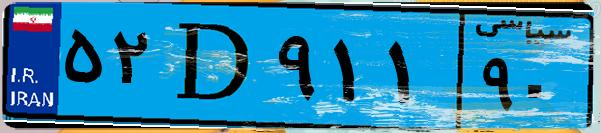0: (525, 38, 570, 115)
1: (385, 28, 445, 110), (330, 28, 385, 110)
2: (110, 28, 158, 98)
5: (57, 26, 110, 100)
9: (270, 28, 330, 110), (475, 38, 525, 113)
D: (158, 12, 270, 120)
